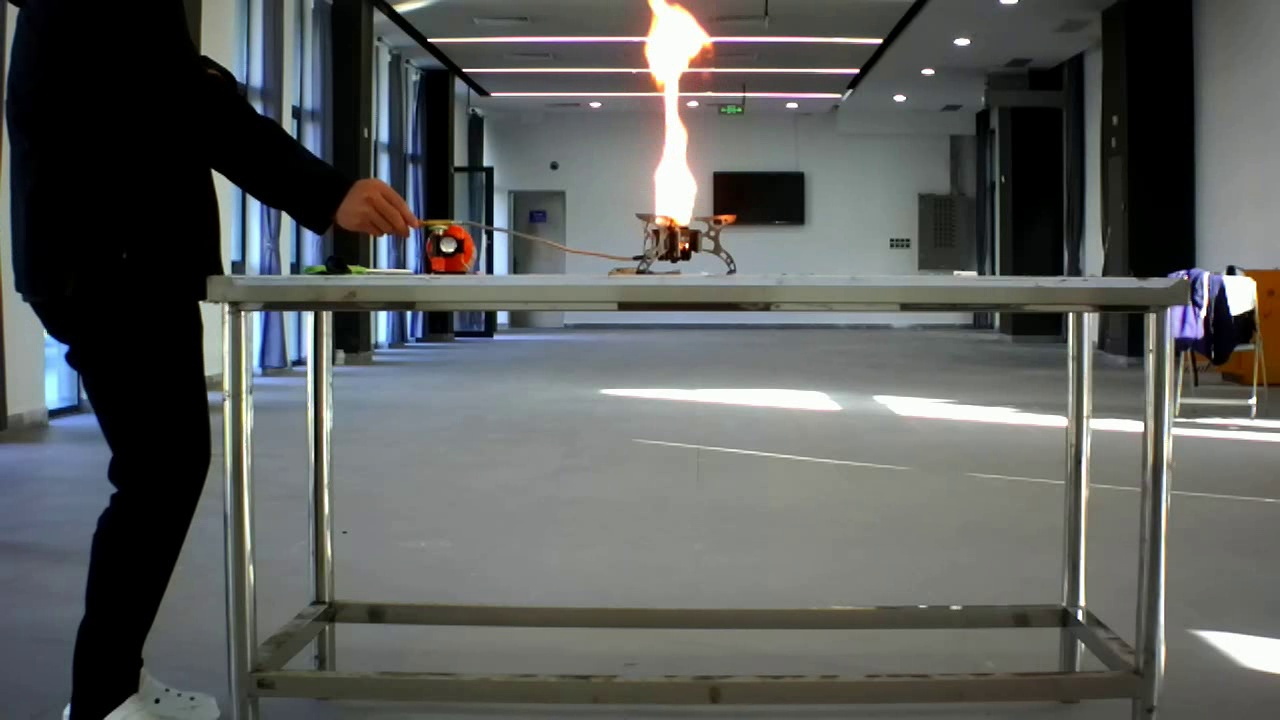Fire: (625, 0, 741, 267)
